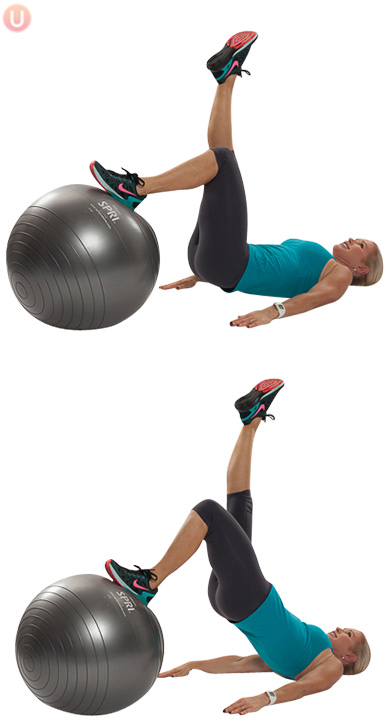yogaball: (6, 174, 166, 339), (10, 571, 165, 720)
